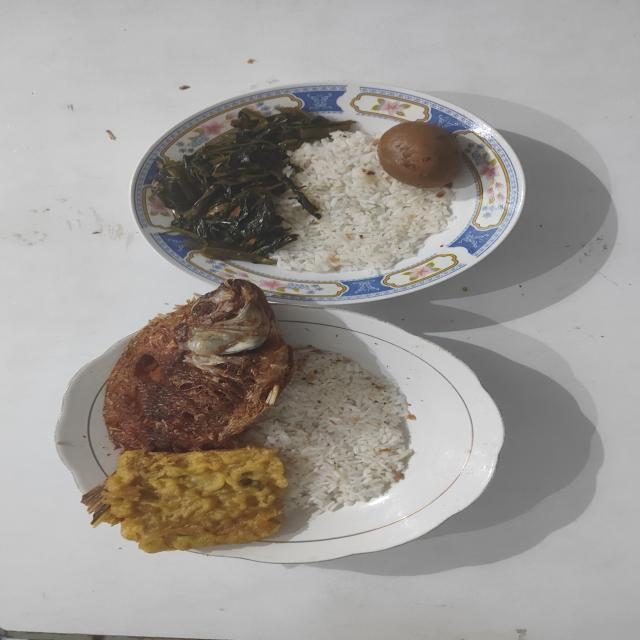ikan_mujair: (104, 280, 294, 452)
nasi_putih: (243, 346, 414, 516), (276, 130, 455, 272)
tumis_kangkung: (153, 108, 352, 264)
